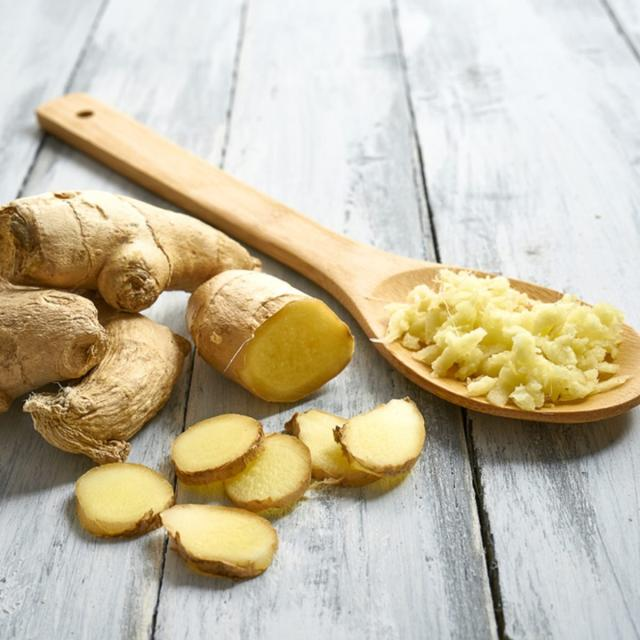Ginger: (0, 183, 348, 453), (299, 396, 437, 508), (45, 444, 183, 544), (164, 512, 306, 578), (167, 400, 274, 487)
